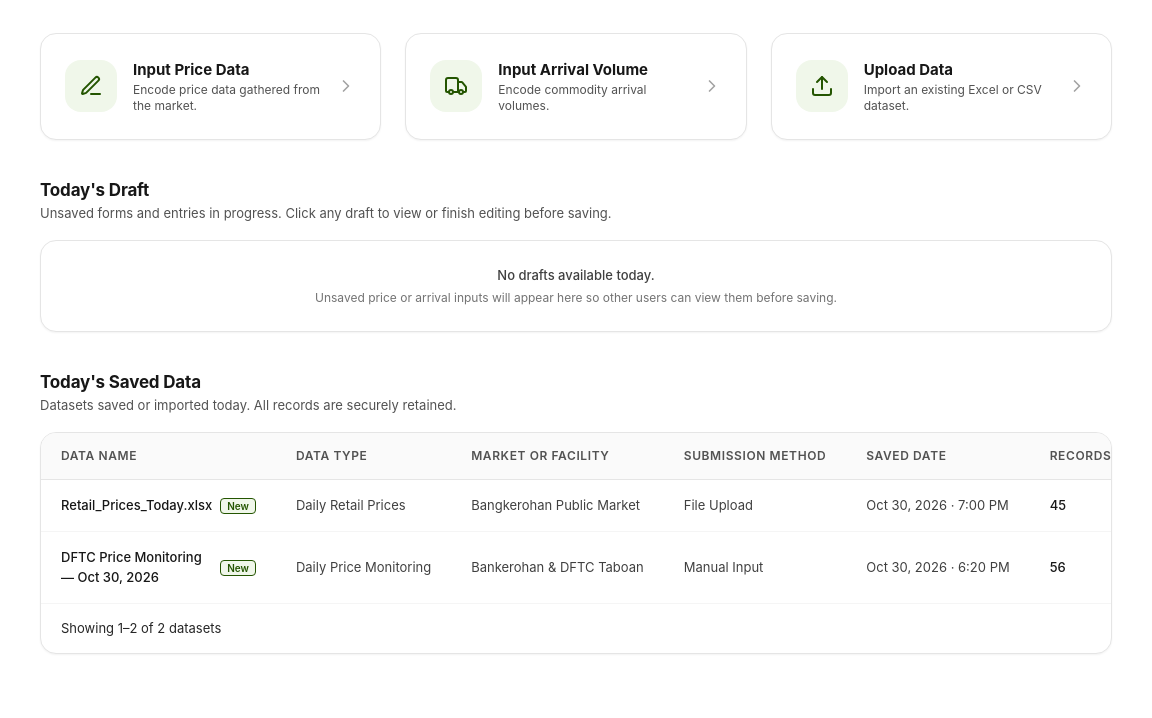
Test: DFTCInput Submit Data Page › clicking a manual saved row opens the report preview with accurate personnel metadata
(page scrolled)
Click the row that starts with "DFTC Price Monitoring — Oct 30, 2026" at (586, 568), box [41,532,1131,603]
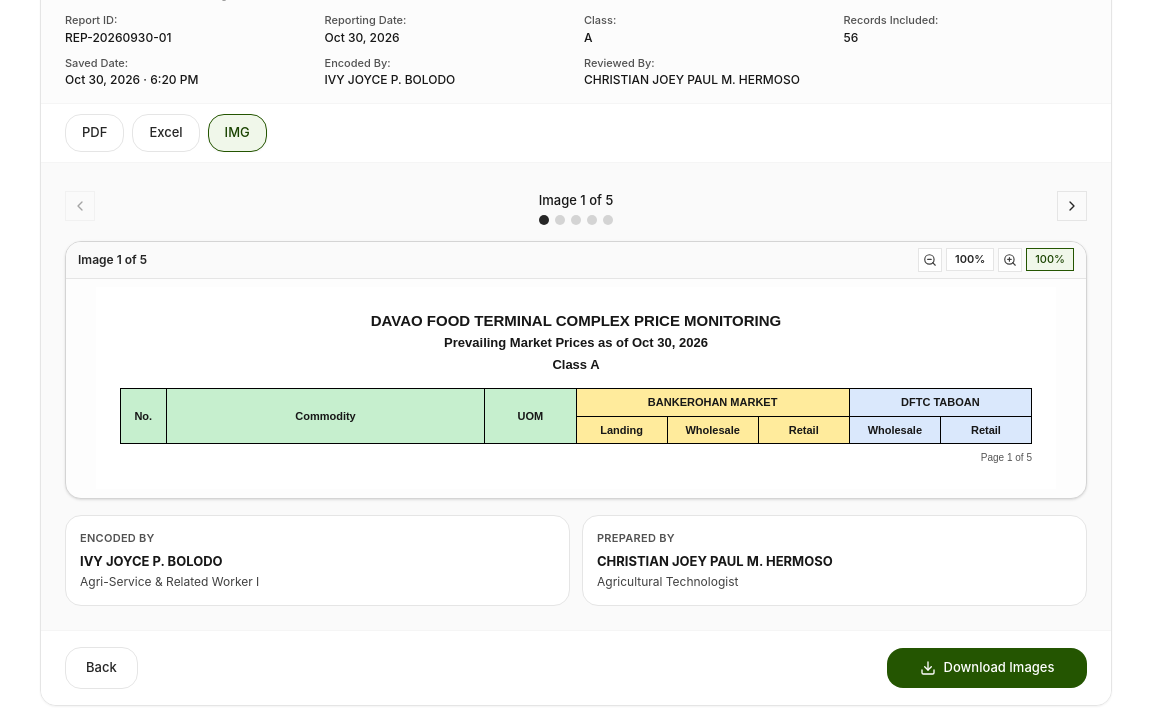
expect the button "PDF" is shown: met, box [65,114,124,152]
expect the button "IMG" is shown: met, box [208,114,267,152]
expect the text "Prepared by" is shown: met, box [597,530,675,544]
